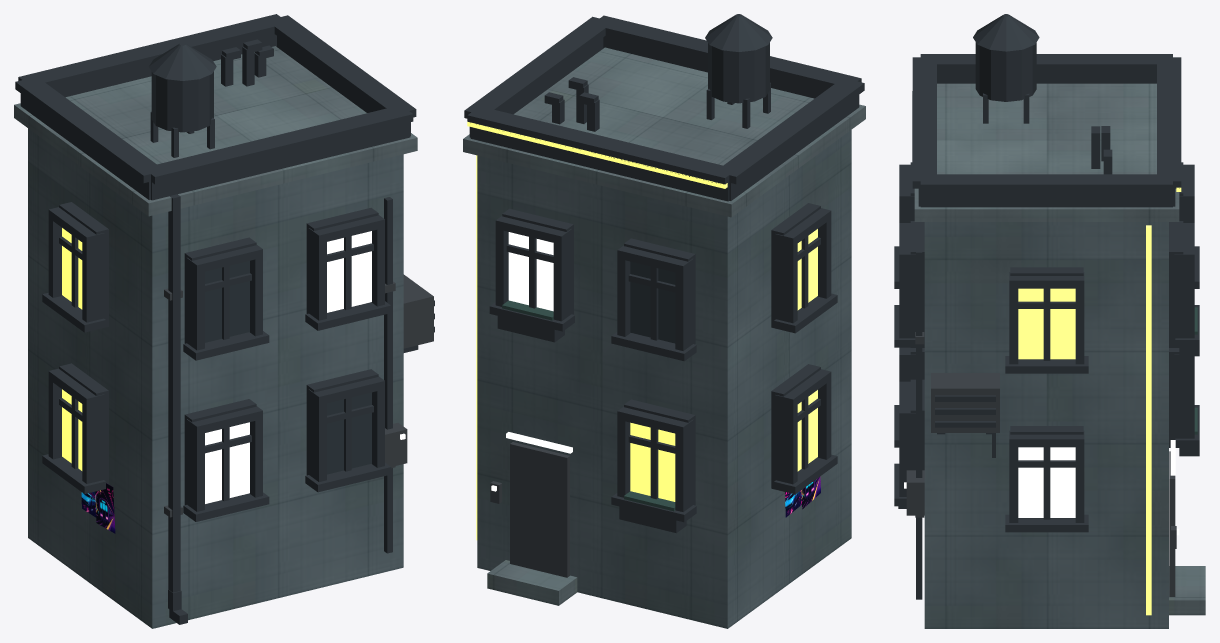
Rendered from synthwave-house.glb.
The picture shows the model from 3 angles, left to right: view 1: azimuth 30°, elevation 25°; view 2: azimuth 150°, elevation 25°; view 3: azimuth 270°, elevation 25°; orthographic projection.
Visible parts, largest first — view 1: House, House_Frame, House_Body2, House_PaneBHot, House_PaneOff, RK_WtTank-15_-10, House_Door, RK_WtCap-15_-10, House_HousePosters, House_PaneADim, WPane_x-1_0_0_85; view 2: House, House_Frame, House_Body2, House_Door, RK_WtTank-15_-10, House_PaneBDim, House_PaneOff, WPane_y1_0_-17_42, House_NeonA, RK_WtCap-15_-10, House_Foliage, House_PaneADim (+2 smaller); view 3: House, House_Frame, House_Body2, House_Door, House_PaneBDim, House_PaneADim, RK_WtTank-15_-10, House_NeonA, RK_WtCap-15_-10.
Boxes of the visible parts, bbox=[...] form: House: bbox=[28, 128, 403, 628]; House_Frame: bbox=[15, 14, 434, 624]; House_Body2: bbox=[14, 46, 417, 216]; House_PaneBHot: bbox=[205, 231, 371, 503]; House_PaneOff: bbox=[205, 260, 371, 474]; RK_WtTank-15_-10: bbox=[151, 71, 213, 132]; House_Door: bbox=[164, 274, 433, 517]; RK_WtCap-15_-10: bbox=[149, 43, 216, 80]; House_HousePosters: bbox=[81, 483, 115, 533]; House_PaneADim: bbox=[62, 389, 82, 470]; WPane_x-1_0_0_85: bbox=[62, 228, 82, 309]; House: bbox=[477, 130, 851, 628]; House_Frame: bbox=[464, 15, 864, 533]; House_Body2: bbox=[463, 47, 865, 605]; House_Door: bbox=[490, 442, 569, 577]; RK_WtTank-15_-10: bbox=[708, 42, 769, 103]; House_PaneBDim: bbox=[506, 232, 572, 453]; House_PaneOff: bbox=[630, 261, 675, 343]; WPane_y1_0_-17_42: bbox=[630, 422, 675, 501]; House_NeonA: bbox=[467, 121, 727, 540]; RK_WtCap-15_-10: bbox=[705, 14, 772, 51]; House_Foliage: bbox=[502, 300, 675, 511]; House_PaneADim: bbox=[797, 390, 817, 471]; House: bbox=[924, 222, 1168, 628]; House_Frame: bbox=[894, 54, 1199, 599]; House_Body2: bbox=[914, 83, 1205, 615]; House_Door: bbox=[906, 332, 1176, 596]; House_PaneBDim: bbox=[1018, 440, 1175, 517]; House_PaneADim: bbox=[1018, 288, 1075, 359]; RK_WtTank-15_-10: bbox=[975, 42, 1036, 101]; House_NeonA: bbox=[1146, 187, 1181, 615]; RK_WtCap-15_-10: bbox=[973, 14, 1039, 51].
Bounding box in the file's own units: 0.877 × 1.43 × 0.765.
14 materials, 3 textured.
